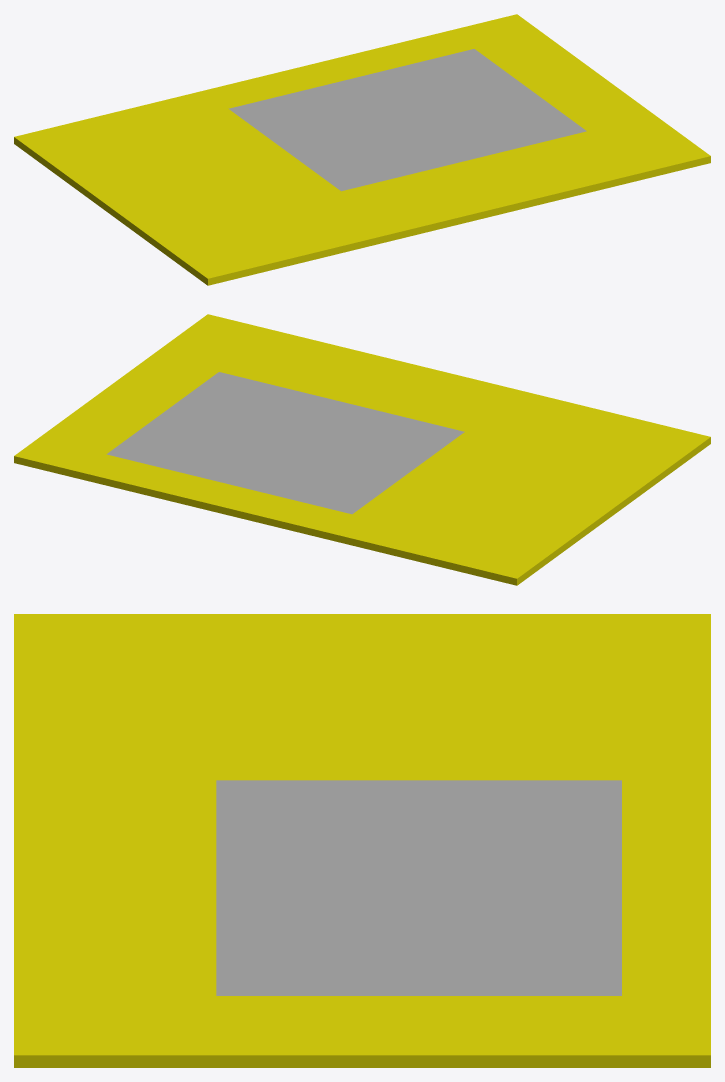
The model's file is Floor.fbx.
The picture shows the model from 3 angles, top to bottom: view 1: azimuth 30°, elevation 25°; view 2: azimuth 150°, elevation 25°; view 3: azimuth 270°, elevation 25°; orthographic projection. The views are drawn at different scales.
Parts seen in each view (by area): view 1: Floor1; view 2: Floor1; view 3: Floor1.
Boxes of the visible parts, x1,y1,x2,y2 form: Floor1: (14,14,710,285); Floor1: (14,314,710,585); Floor1: (14,614,710,1067).
Bounding box in the file's own units: 1006 × 13.39 × 672.
